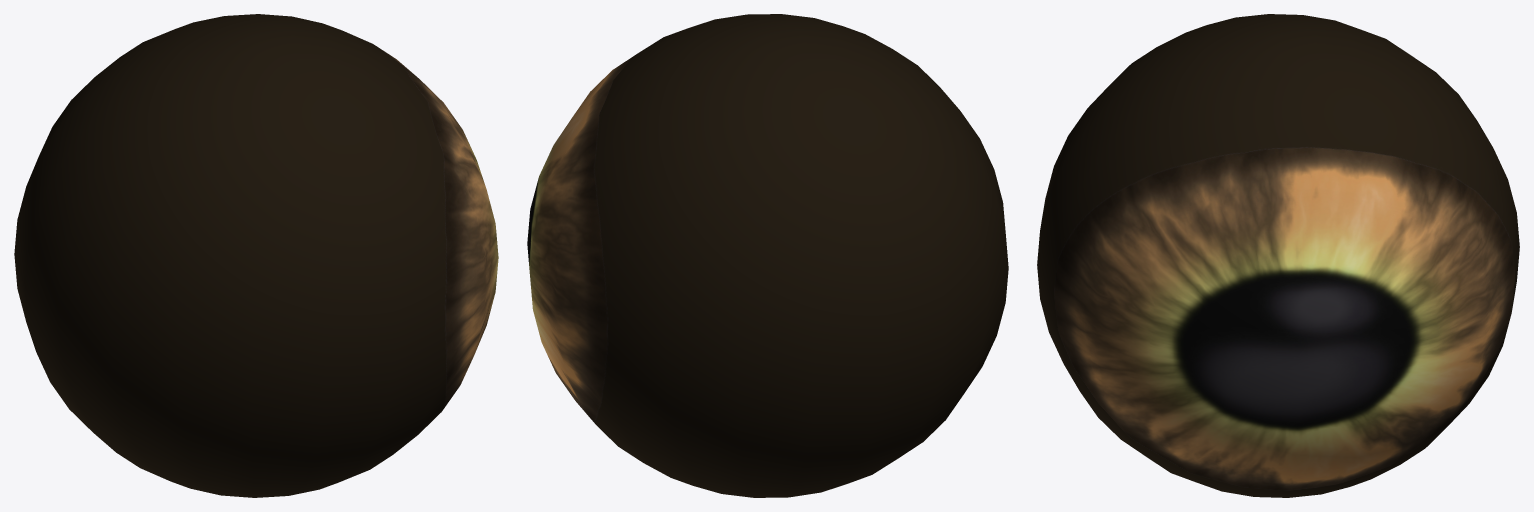
The model's file is theater_puzzle_singleEye.fbx.
3 views of the same model, side by side, from view 1: azimuth 30°, elevation 25°; view 2: azimuth 150°, elevation 25°; view 3: azimuth 270°, elevation 25° (orthographic).
Parts seen in each view (by area): view 1: pSphere620; view 2: pSphere620; view 3: pSphere620.
Boxes of the visible parts, box(x1,y1,x2,y2) form: pSphere620: box(14, 14, 498, 497); pSphere620: box(527, 14, 1008, 497); pSphere620: box(1037, 14, 1519, 497).
Bounding box in the file's own units: 8.31 × 8.34 × 8.31.
